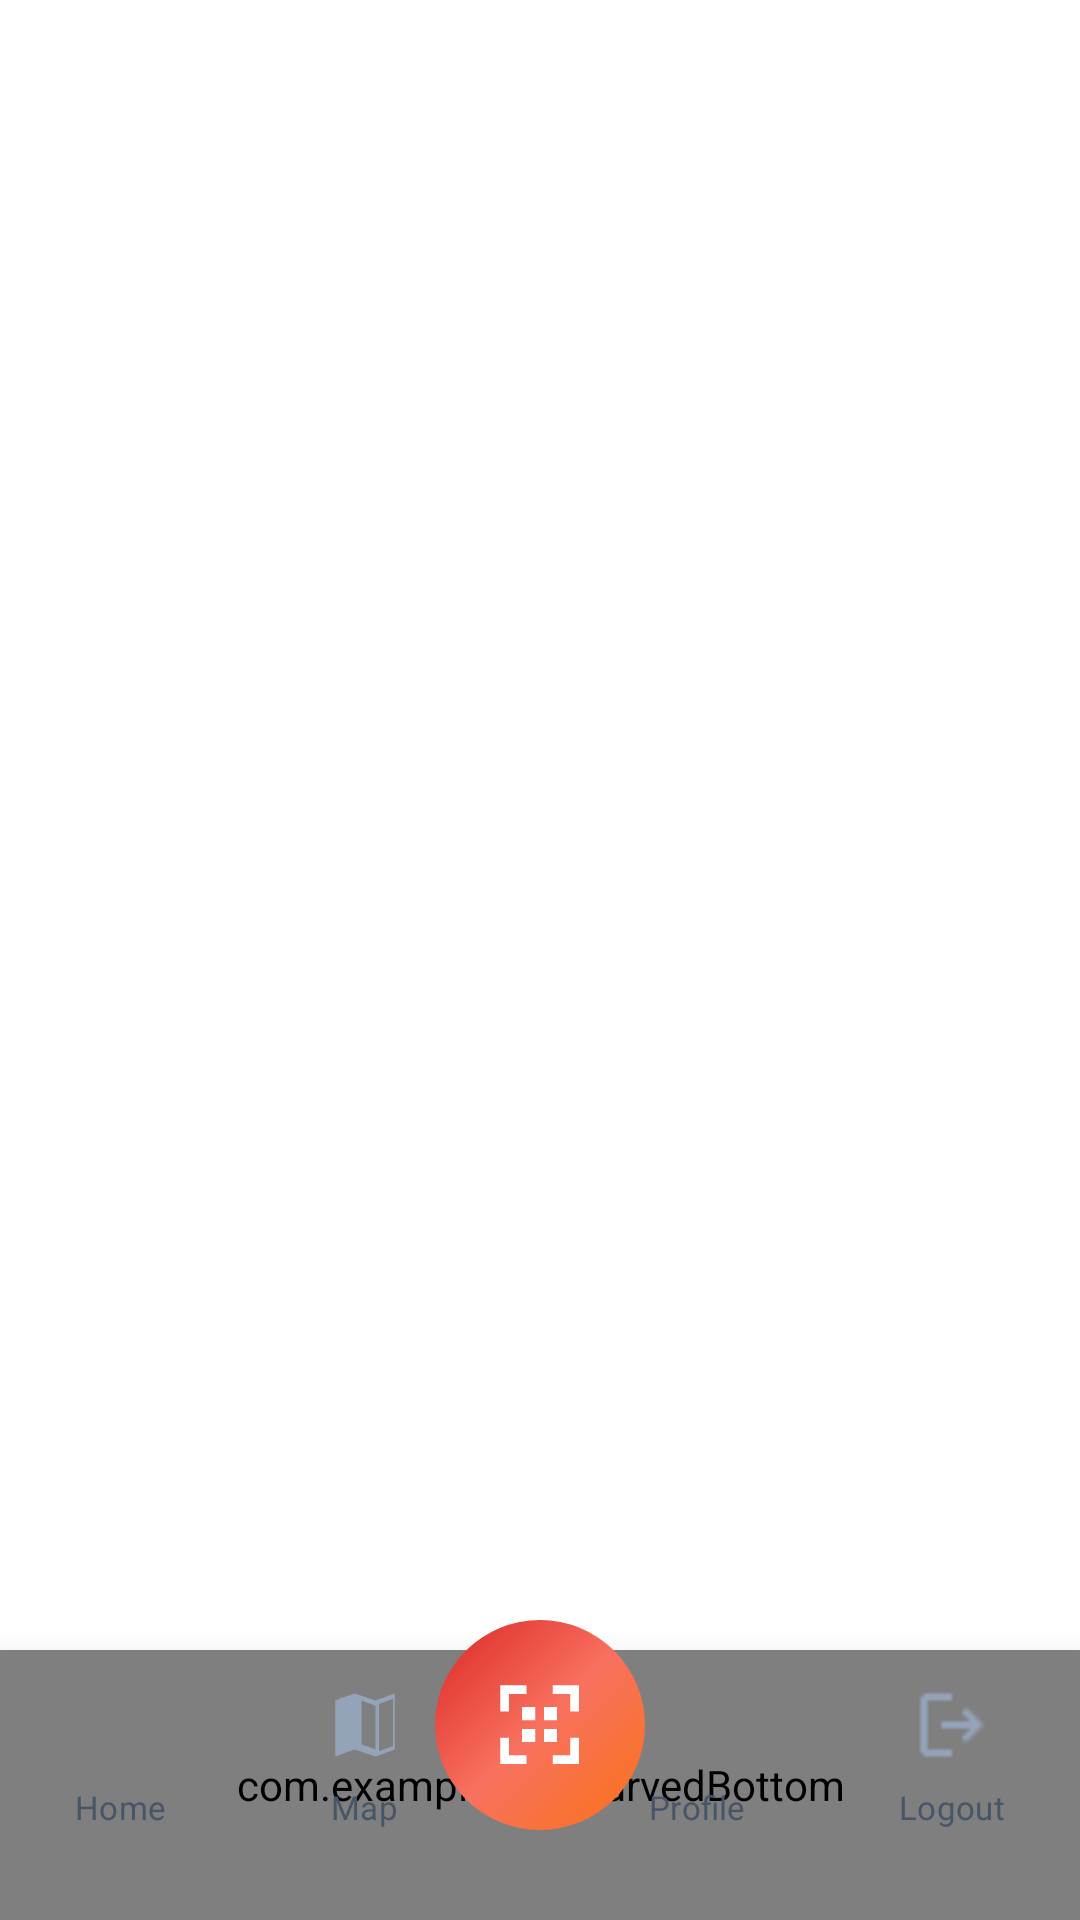

Point at icon controls on the screen. Image size 1080px x 1920px, points as (x,y).
QR Scanner: (539,1724)
